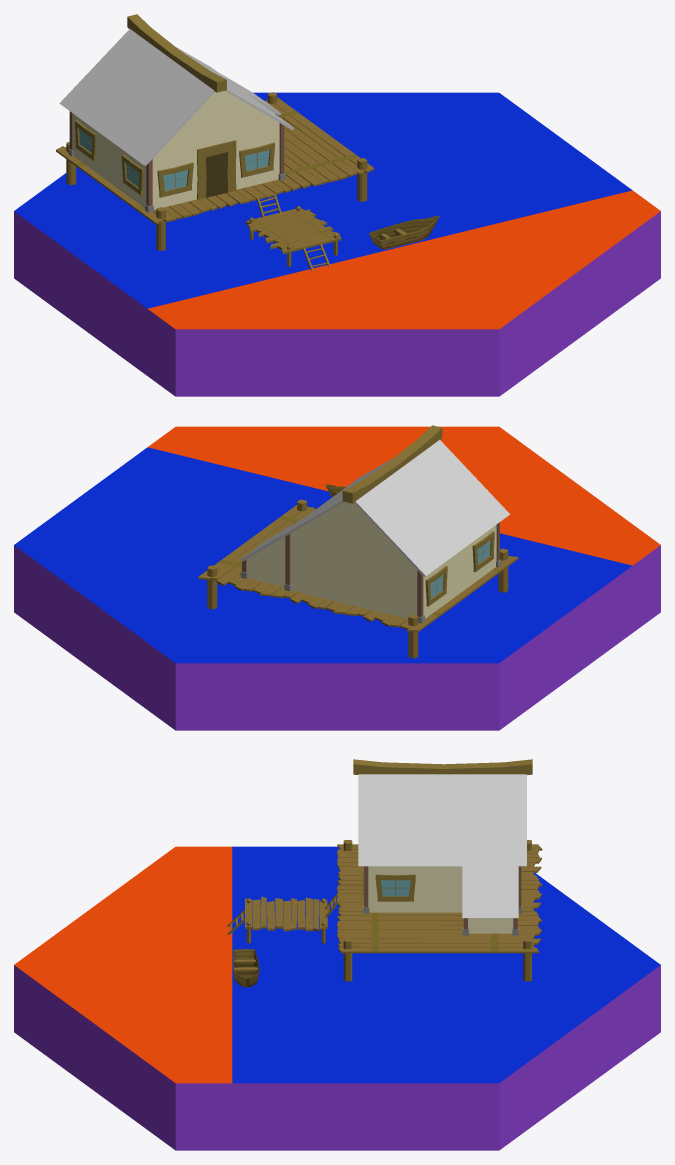
The model's file is Tuile_Village_Pecheur_Lvl2.fbx.
The picture shows the model from 3 angles, top to bottom: view 1: azimuth 30°, elevation 25°; view 2: azimuth 150°, elevation 25°; view 3: azimuth 270°, elevation 25°; orthographic projection.
Parts seen in each view (by area): view 1: Tuile, toit, mur maison, platforme 2, fenetre, Platforme 1, porte, Bateau, poutre; view 2: Tuile, mur maison, toit, platforme 2, cabane, fenetre, poutre; view 3: Tuile, toit, platforme 2, mur maison, cabane toit, Platforme 1, fenetre, Bateau, cabane.
Part boxes in pixels (<box>): Tuile: <box>14,92,660,396</box>; toit: <box>59,29,294,165</box>; mur maison: <box>73,14,279,209</box>; platforme 2: <box>56,92,374,250</box>; fenetre: <box>75,120,274,197</box>; Platforme 1: <box>245,205,341,270</box>; porte: <box>197,140,236,199</box>; Bateau: <box>369,215,439,249</box>; poutre: <box>68,111,285,212</box>; Tuile: <box>14,426,660,730</box>; mur maison: <box>290,425,496,619</box>; toit: <box>275,440,510,576</box>; platforme 2: <box>198,499,518,658</box>; cabane: <box>246,537,285,586</box>; fenetre: <box>425,531,494,606</box>; poutre: <box>284,522,501,623</box>; Tuile: <box>14,846,660,1150</box>; toit: <box>358,774,526,866</box>; platforme 2: <box>324,840,542,981</box>; mur maison: <box>353,759,532,912</box>; cabane toit: <box>462,866,518,918</box>; Platforme 1: <box>227,896,327,943</box>; fenetre: <box>363,866,415,901</box>; Bateau: <box>233,949,259,987</box>; cabane: <box>468,918,513,933</box>.
Bounding box in the file's own units: 107 × 45.97 × 124.
